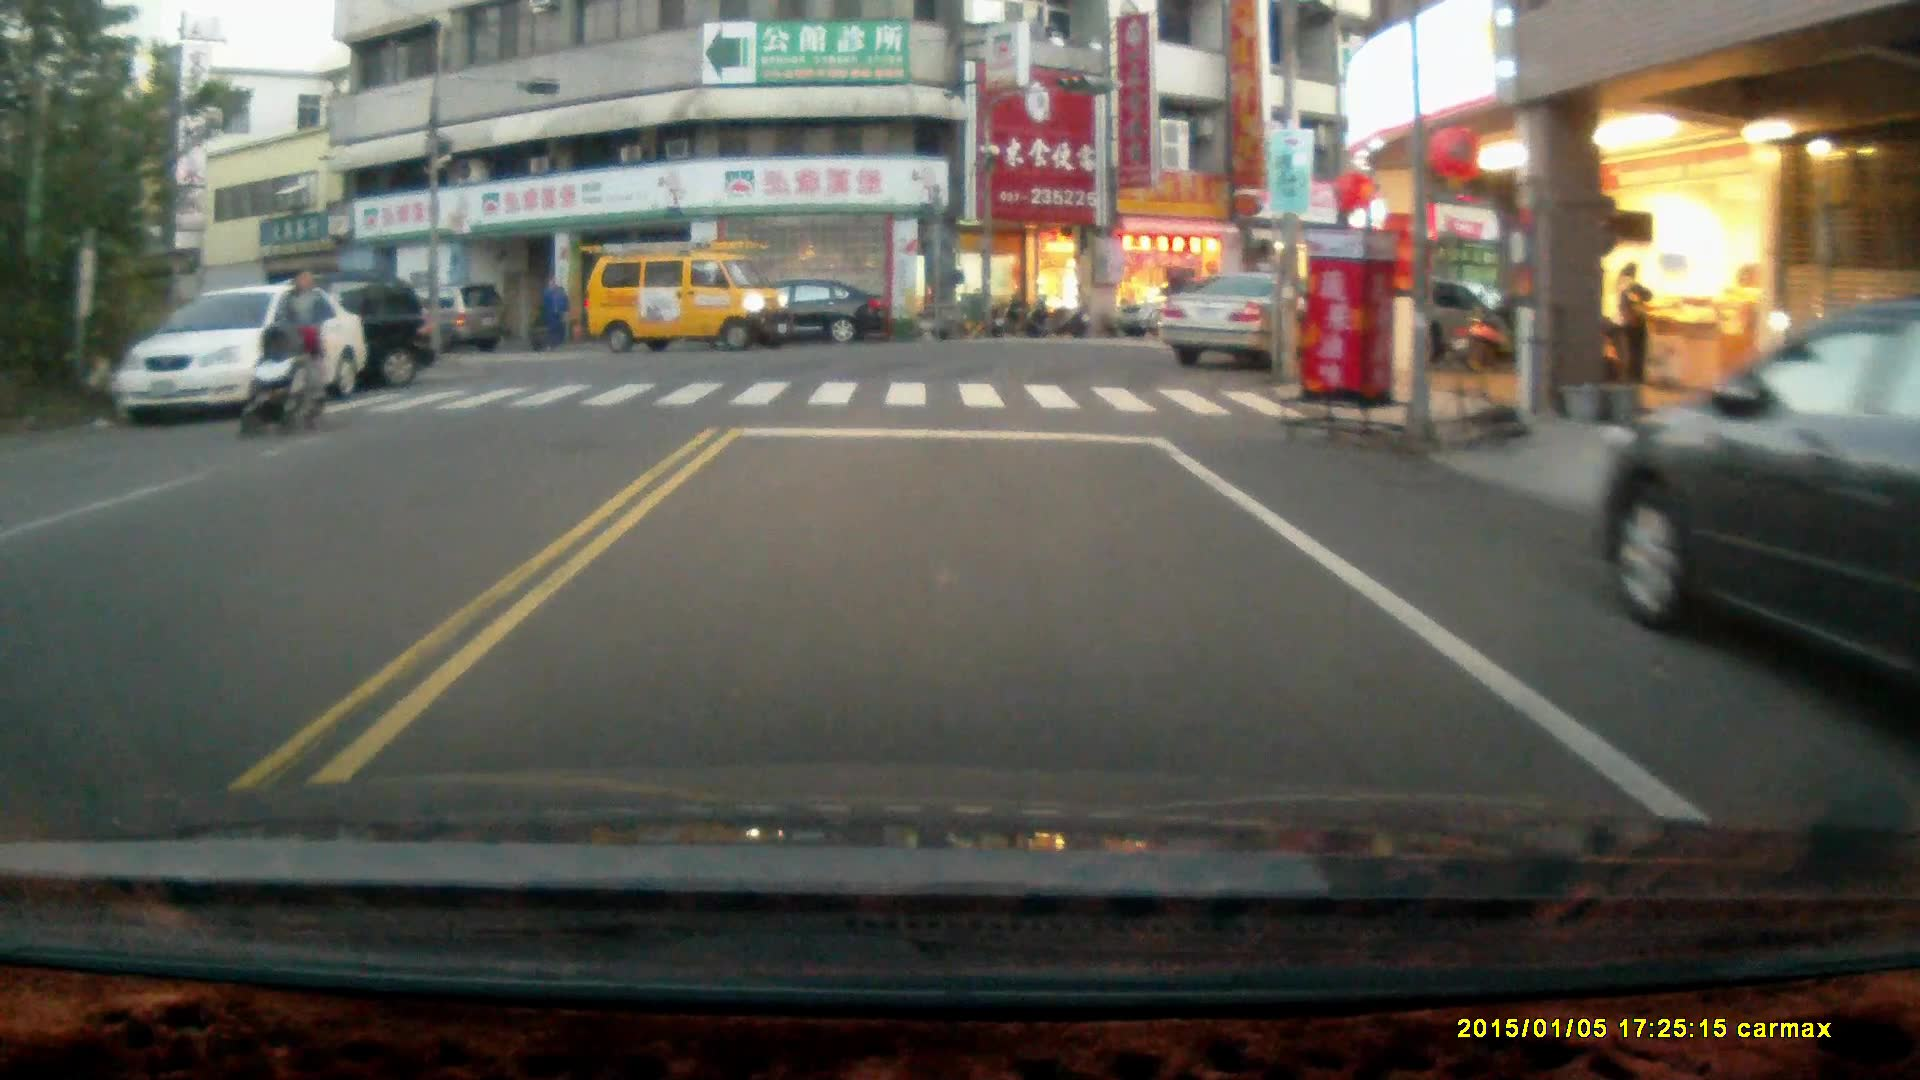pedestrian: (283, 267, 326, 408), (1618, 260, 1653, 388), (543, 278, 569, 352)
rider: (237, 316, 326, 438)
vehicle: (106, 287, 365, 427), (194, 274, 433, 396), (586, 239, 795, 352), (1164, 271, 1330, 369), (718, 280, 888, 354), (386, 281, 519, 364)
